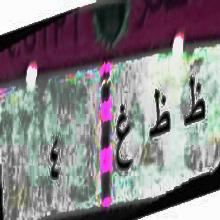4: (46, 120, 64, 194)
Thaa: (147, 79, 171, 148), (181, 72, 206, 138)
ghayn: (114, 93, 136, 178)
